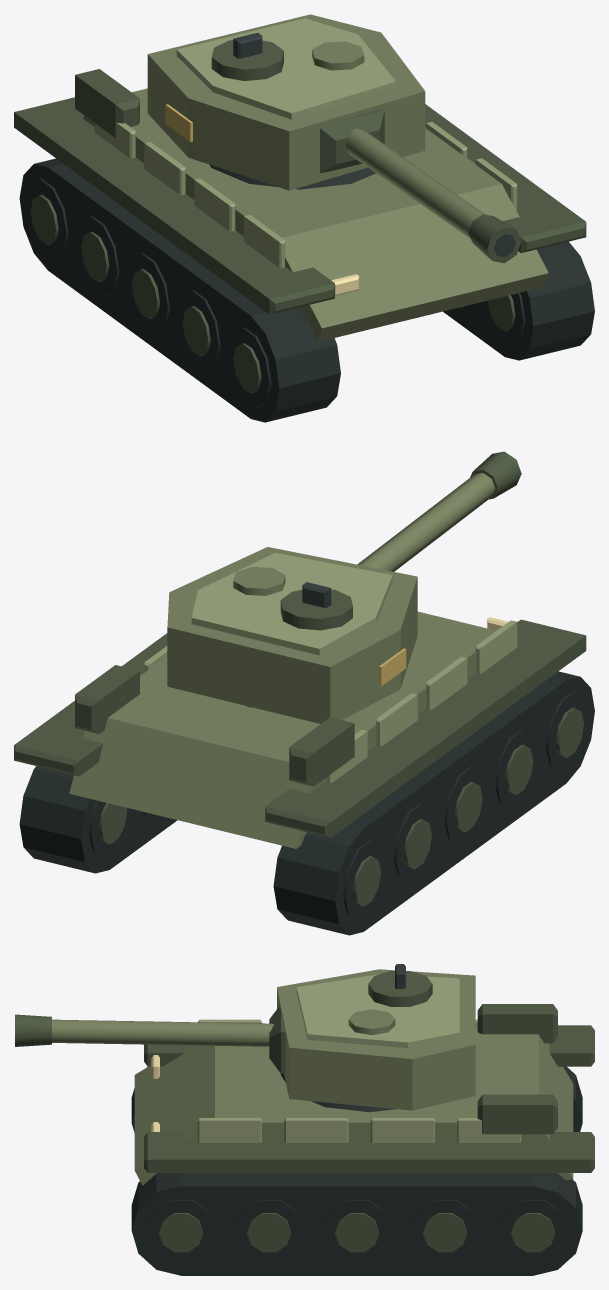
The model's file is tank.glb.
3 views of the same model, one above another, from view 1: azimuth 30°, elevation 25°; view 2: azimuth 150°, elevation 25°; view 3: azimuth 270°, elevation 25° (orthographic). The views are drawn at different scales.
Visible parts, largest first — view 1: armored_hull_olive, tracks_rubber, track_guards_oliveDark, turret_olive, turret_roof_oliveLight, road_wheels_rubber, road_wheels_oliveDark, side_armor_oliveLight, barrel_olive, stowage_oliveDark, mantlet_oliveDark, hatches_oliveDark (+5 smaller); view 2: armored_hull_olive, tracks_rubber, turret_olive, track_guards_oliveDark, turret_roof_oliveLight, road_wheels_rubber, road_wheels_oliveDark, stowage_oliveDark, side_armor_oliveLight, barrel_olive, hatches_oliveDark, hatches_olive (+2 smaller); view 3: tracks_rubber, armored_hull_olive, track_guards_oliveDark, turret_olive, road_wheels_rubber, turret_roof_oliveLight, road_wheels_oliveDark, side_armor_oliveLight, stowage_oliveDark, barrel_olive, hatches_oliveDark, muzzle_oliveDark (+3 smaller).
Part boxes in pixels (x1,y1,x2,y2): armored_hull_olive: (83, 88, 548, 341); tracks_rubber: (19, 158, 594, 422); track_guards_oliveDark: (14, 97, 586, 314); turret_olive: (147, 14, 425, 190); turret_roof_oliveLight: (176, 18, 396, 119); road_wheels_rubber: (25, 179, 525, 408); road_wheels_oliveDark: (30, 194, 515, 393); side_armor_oliveLight: (94, 121, 517, 267); barrel_olive: (345, 128, 484, 238); stowage_oliveDark: (75, 69, 139, 137); mantlet_oliveDark: (320, 108, 384, 173); hatches_oliveDark: (211, 40, 283, 80); armored_hull_olive: (69, 611, 519, 848); tracks_rubber: (19, 671, 594, 935); turret_olive: (167, 547, 417, 723); track_guards_oliveDark: (14, 619, 586, 837); turret_roof_oliveLight: (191, 552, 392, 655); road_wheels_rubber: (89, 691, 589, 920); road_wheels_oliveDark: (99, 707, 583, 906); stowage_oliveDark: (75, 665, 354, 786); side_armor_oliveLight: (144, 620, 517, 782); barrel_olive: (357, 473, 495, 571); hatches_oliveDark: (280, 589, 352, 630); hatches_olive: (233, 567, 285, 595); tracks_rubber: (131, 1066, 582, 1275); armored_hull_olive: (134, 1027, 573, 1185); track_guards_oliveDark: (144, 1025, 594, 1172); turret_olive: (277, 969, 475, 1110); road_wheels_rubber: (145, 1200, 568, 1262); turret_roof_oliveLight: (296, 974, 459, 1047); road_wheels_oliveDark: (159, 1213, 555, 1252); side_armor_oliveLight: (197, 1019, 521, 1142); stowage_oliveDark: (477, 1004, 557, 1134); barrel_olive: (52, 1019, 273, 1046); hatches_oliveDark: (368, 971, 432, 1006); muzzle_oliveDark: (15, 1014, 51, 1046).
Size of the model in its own units: 1.35 by 1.03 by 2.4.
